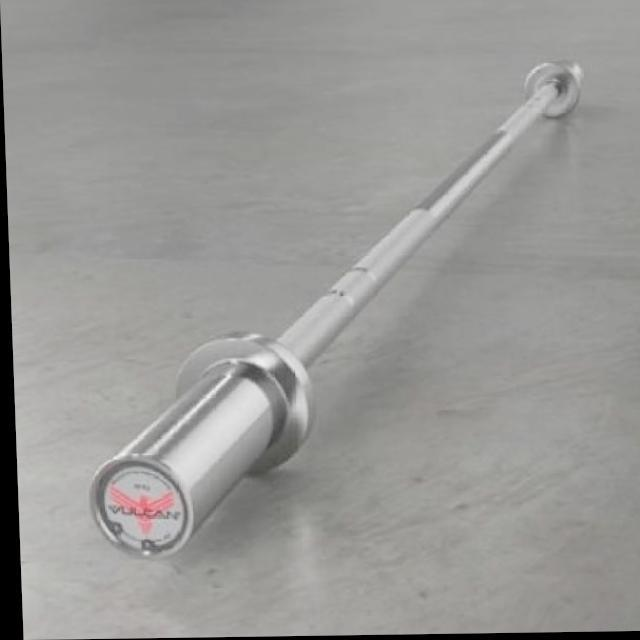barbell: (78, 325, 318, 570)
